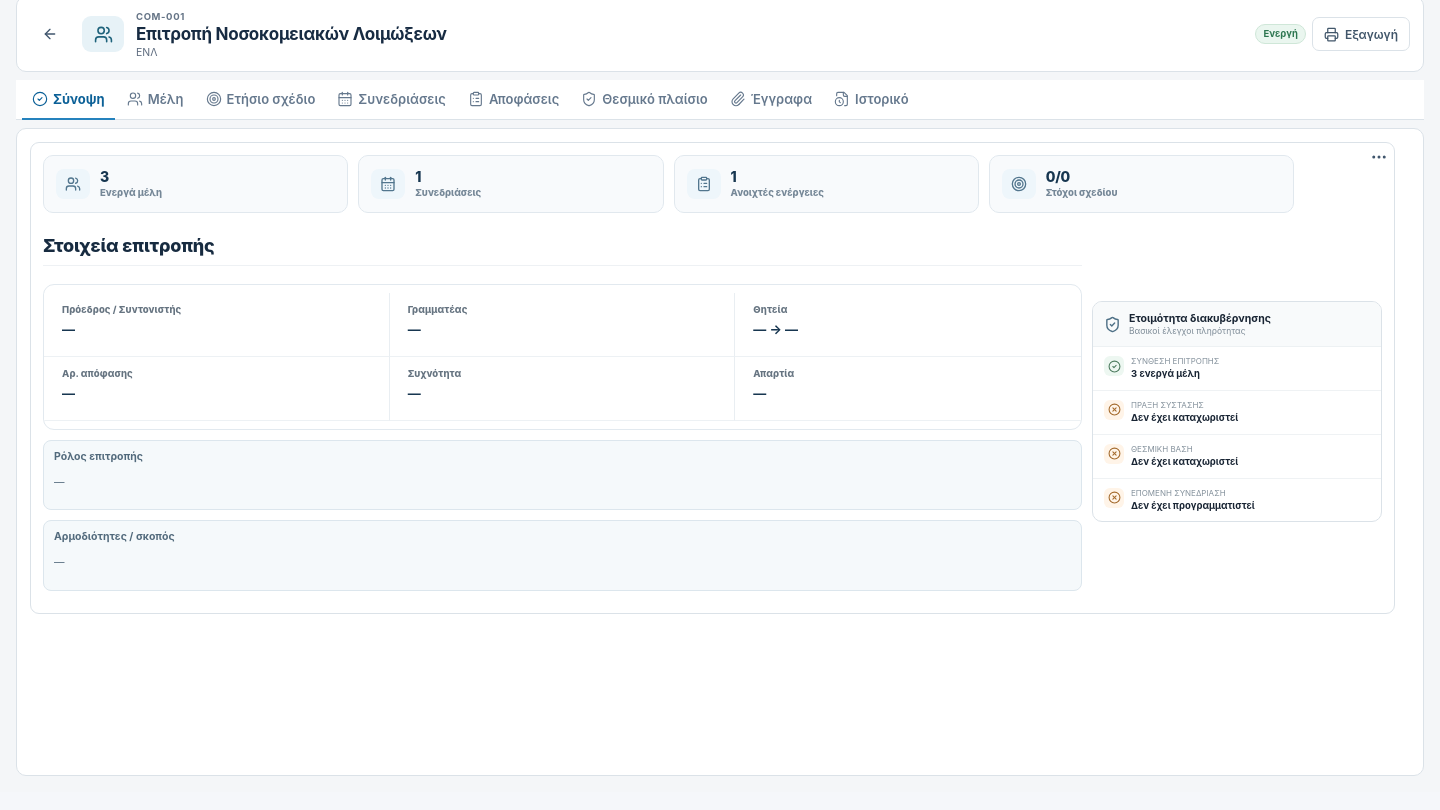
Test: committee record: meetings › shows the requested corrections when minutes return to draft
Click the tab "Συνεδριάσεις" at (392, 100), box [327, 80, 456, 120]
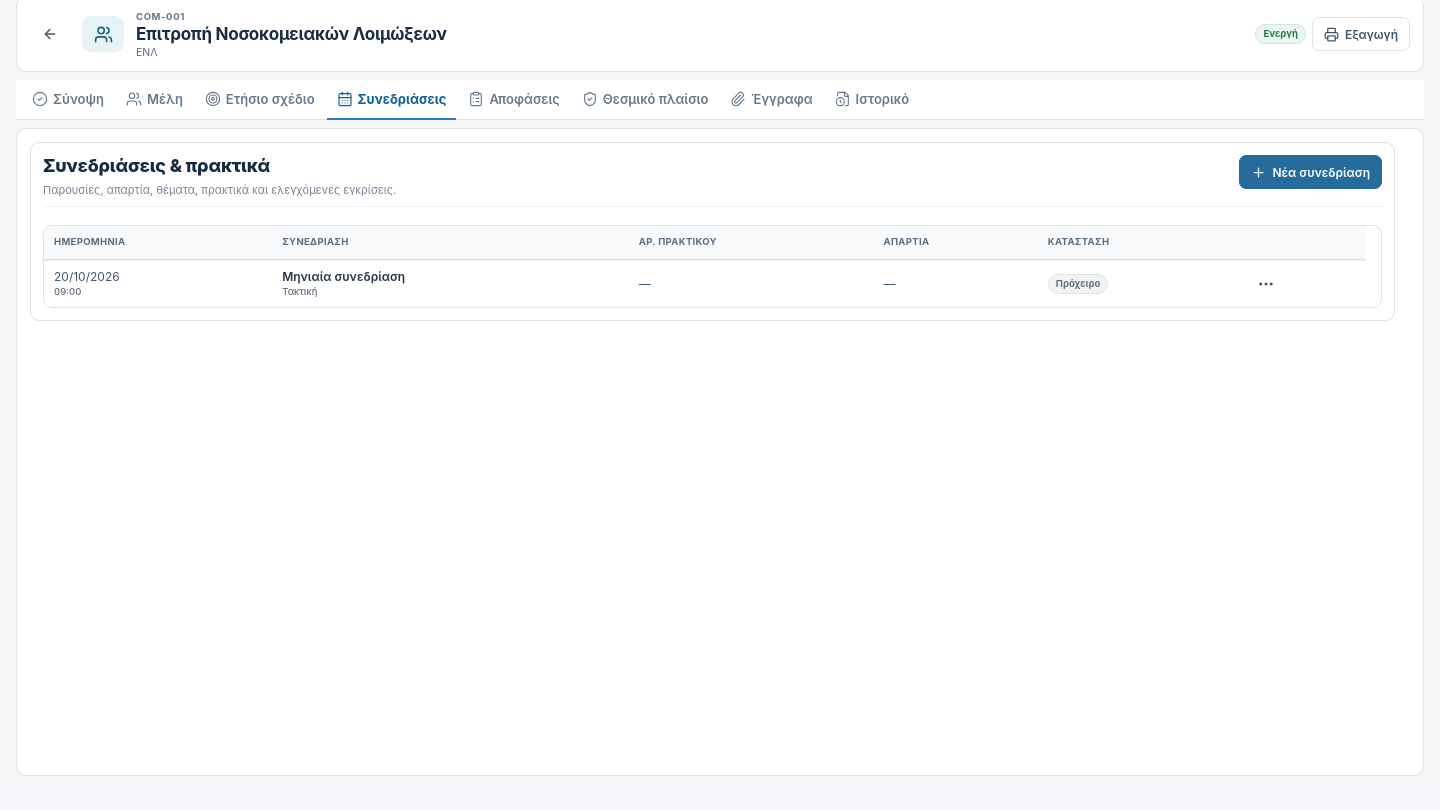
Click the text "Μηνιαία συνεδρίαση" at (344, 276), box [282, 269, 405, 284]
(page scrolled)
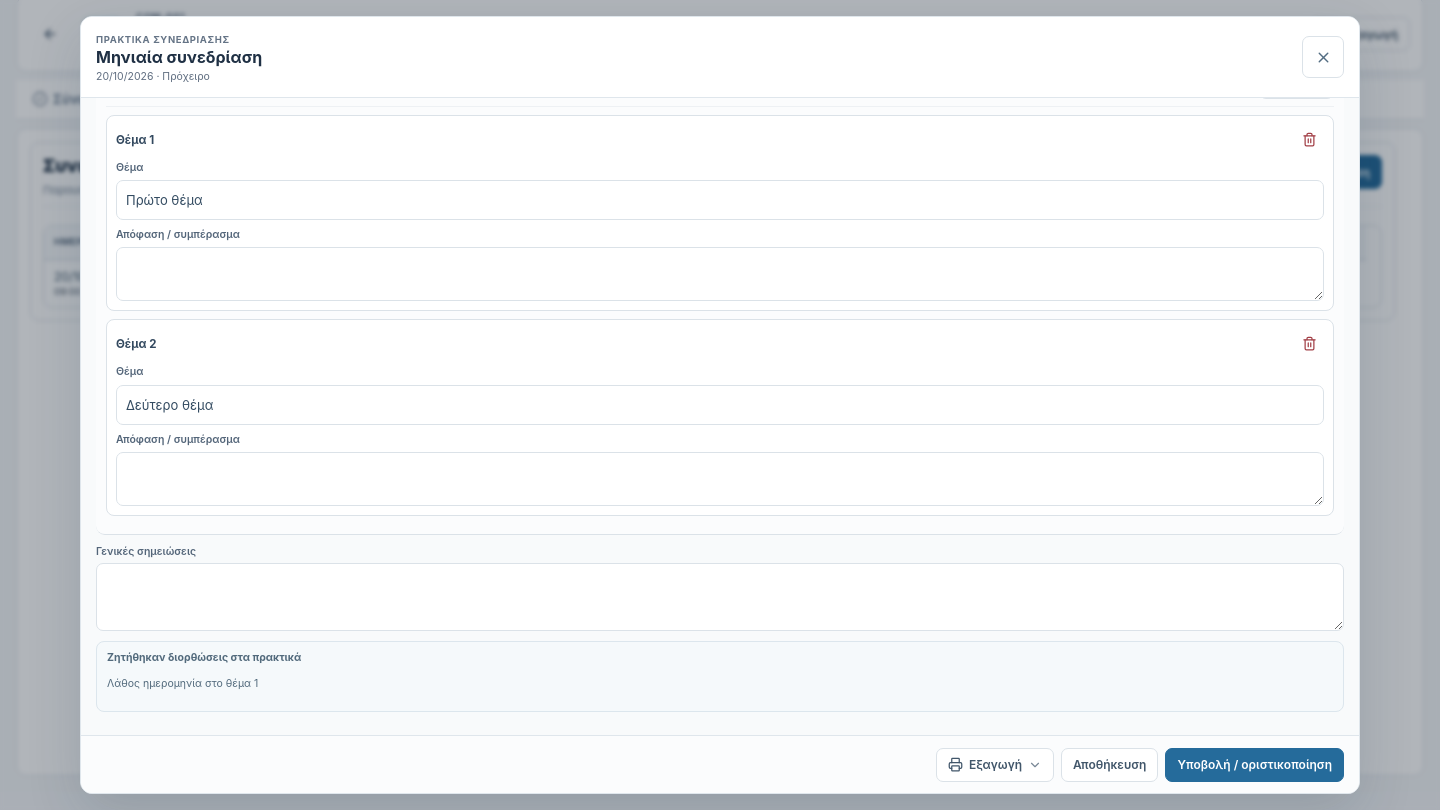
Now the text "Ζητήθηκαν διορθώσεις στα πρακτικά" is shown, box [107, 651, 301, 664]
Now the text "Λάθος ημερομηνία στο θέμα 1" is shown, box [107, 677, 258, 690]
